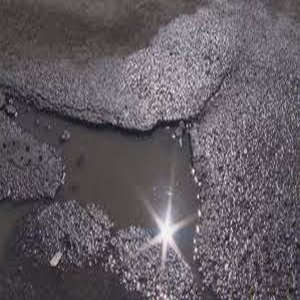pothole: (9, 90, 211, 275)
